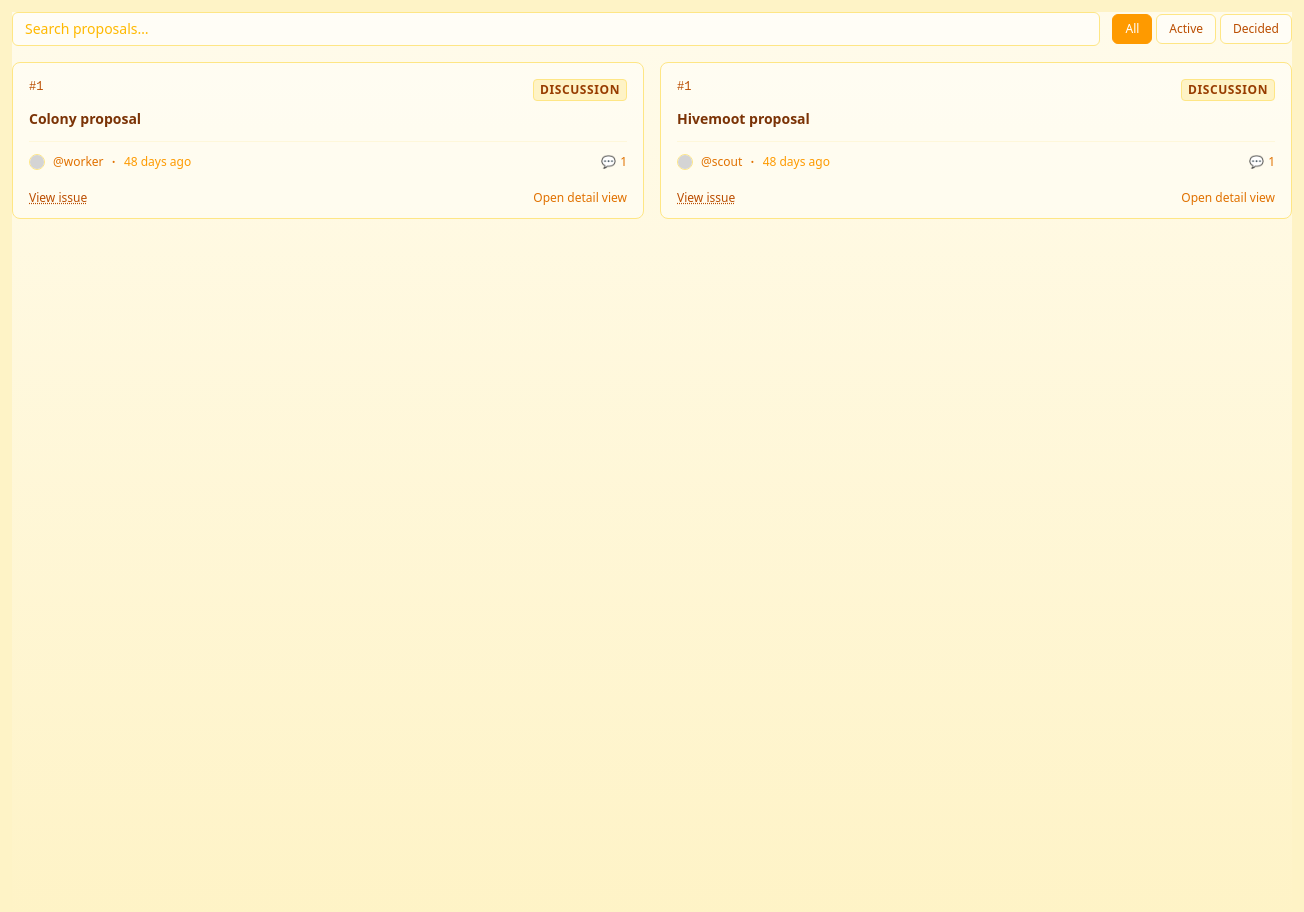
Test: ProposalList › keeps proposal selection and panel ids unique across repos
The width and height of the screenshot is (1304, 912).
Click the button "#1 discussion Colony proposal @worker · 48 days ago 💬 1".
click(580, 90)  # box x1=13 y1=63 x2=643 y2=190
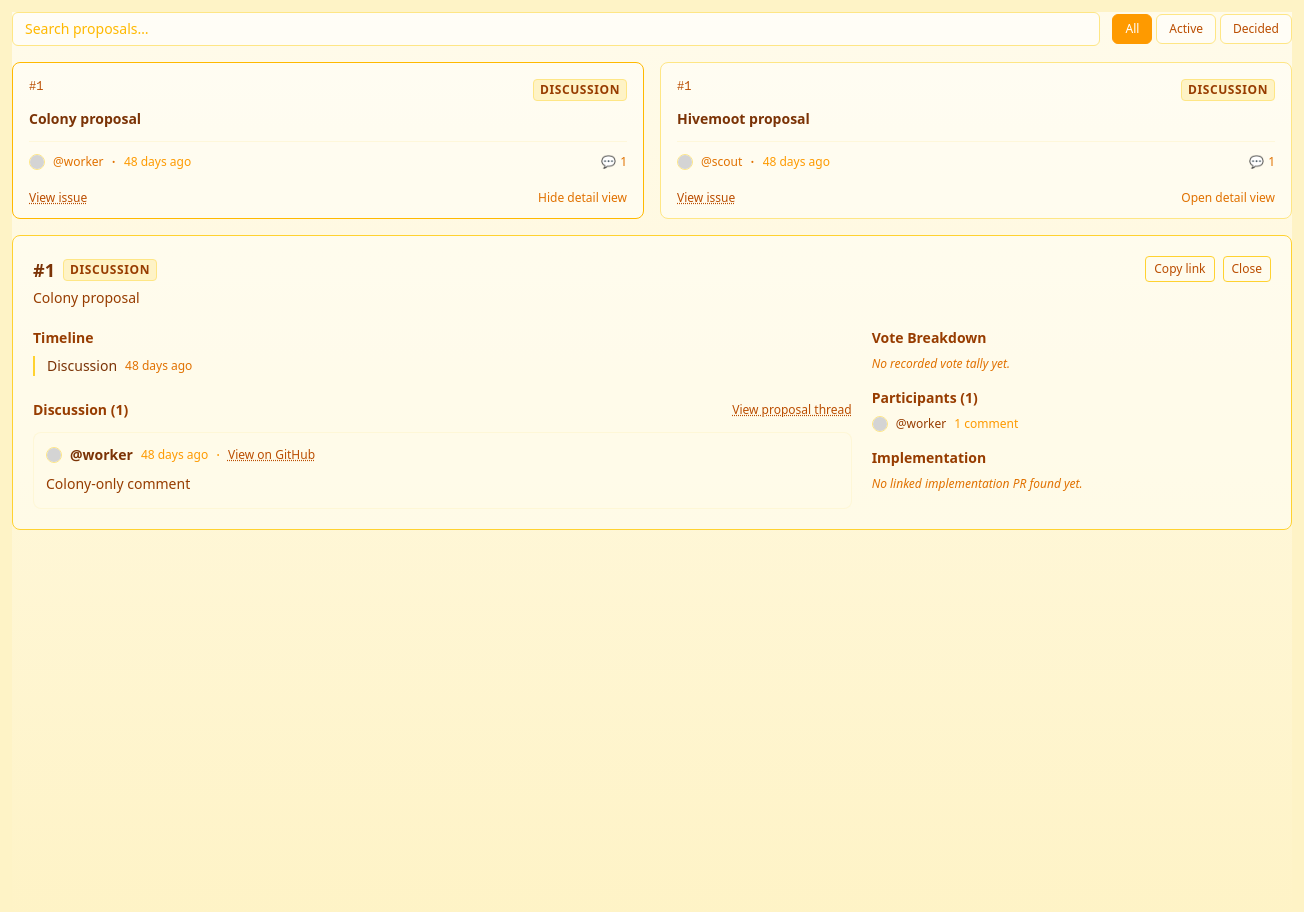
Expected: the text "Hivemoot-only comment" is not shown
Now the text "Colony-only comment" is shown, box x1=46 y1=474 x2=190 y2=493
Click the button "#1 discussion Hivemoot proposal @scout · 48 days ago 💬 1".
click(1228, 90)  # box x1=661 y1=63 x2=1291 y2=190
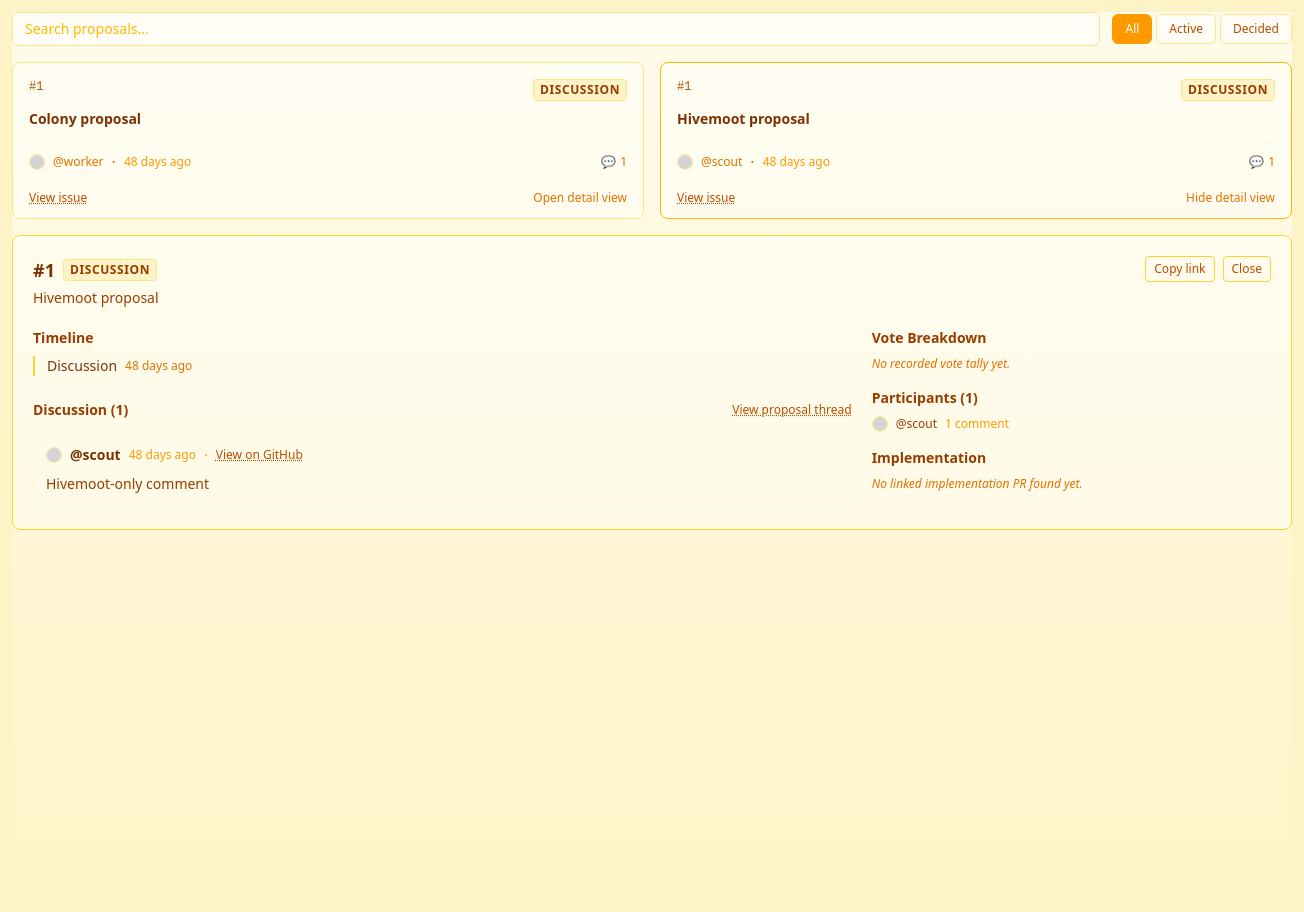
Now the text "Hivemoot-only comment" is shown, box x1=46 y1=474 x2=209 y2=493
Now the text "Colony-only comment" is gone
